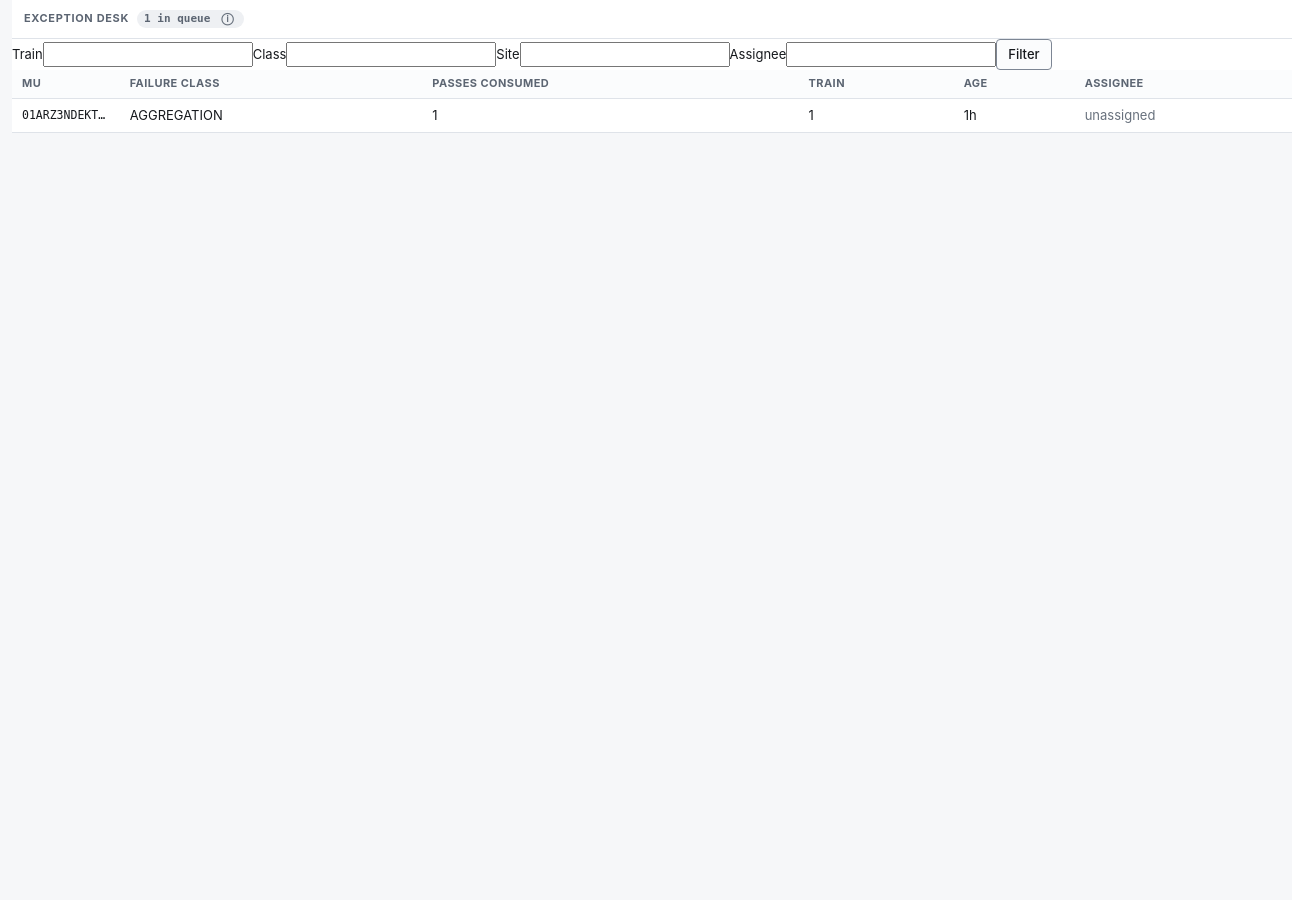
it: the case page › hides the decision form for a non-migration-engineer
The image size is (1292, 900).
Click the text "01ARZ3NDEKTSV4RRFFQ69G5FAV" at (66, 116), box [12,99,120,133]
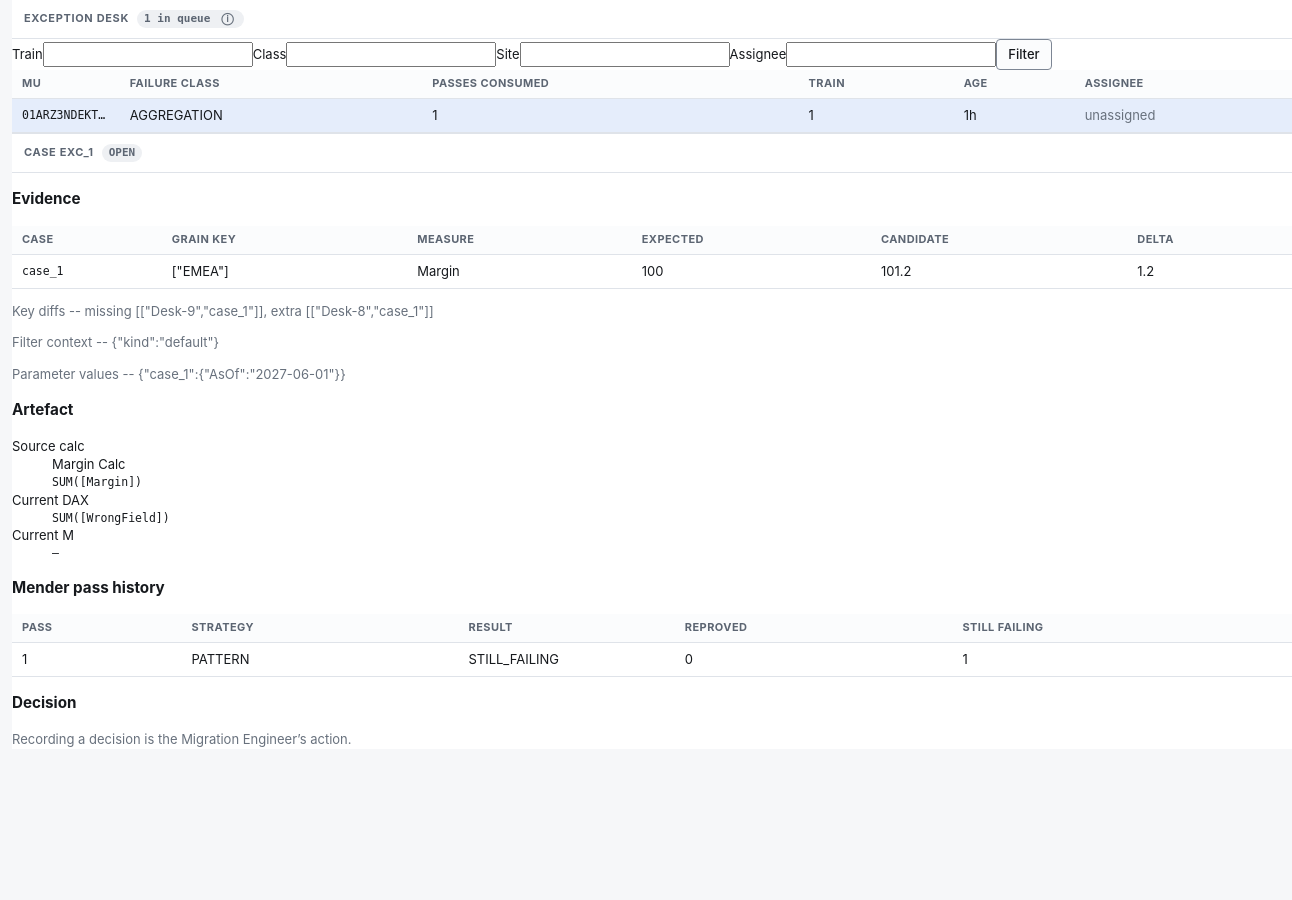
Now the text "Recording a decision is the Migration Engineer’s action." is shown, box [12,731,352,747]
